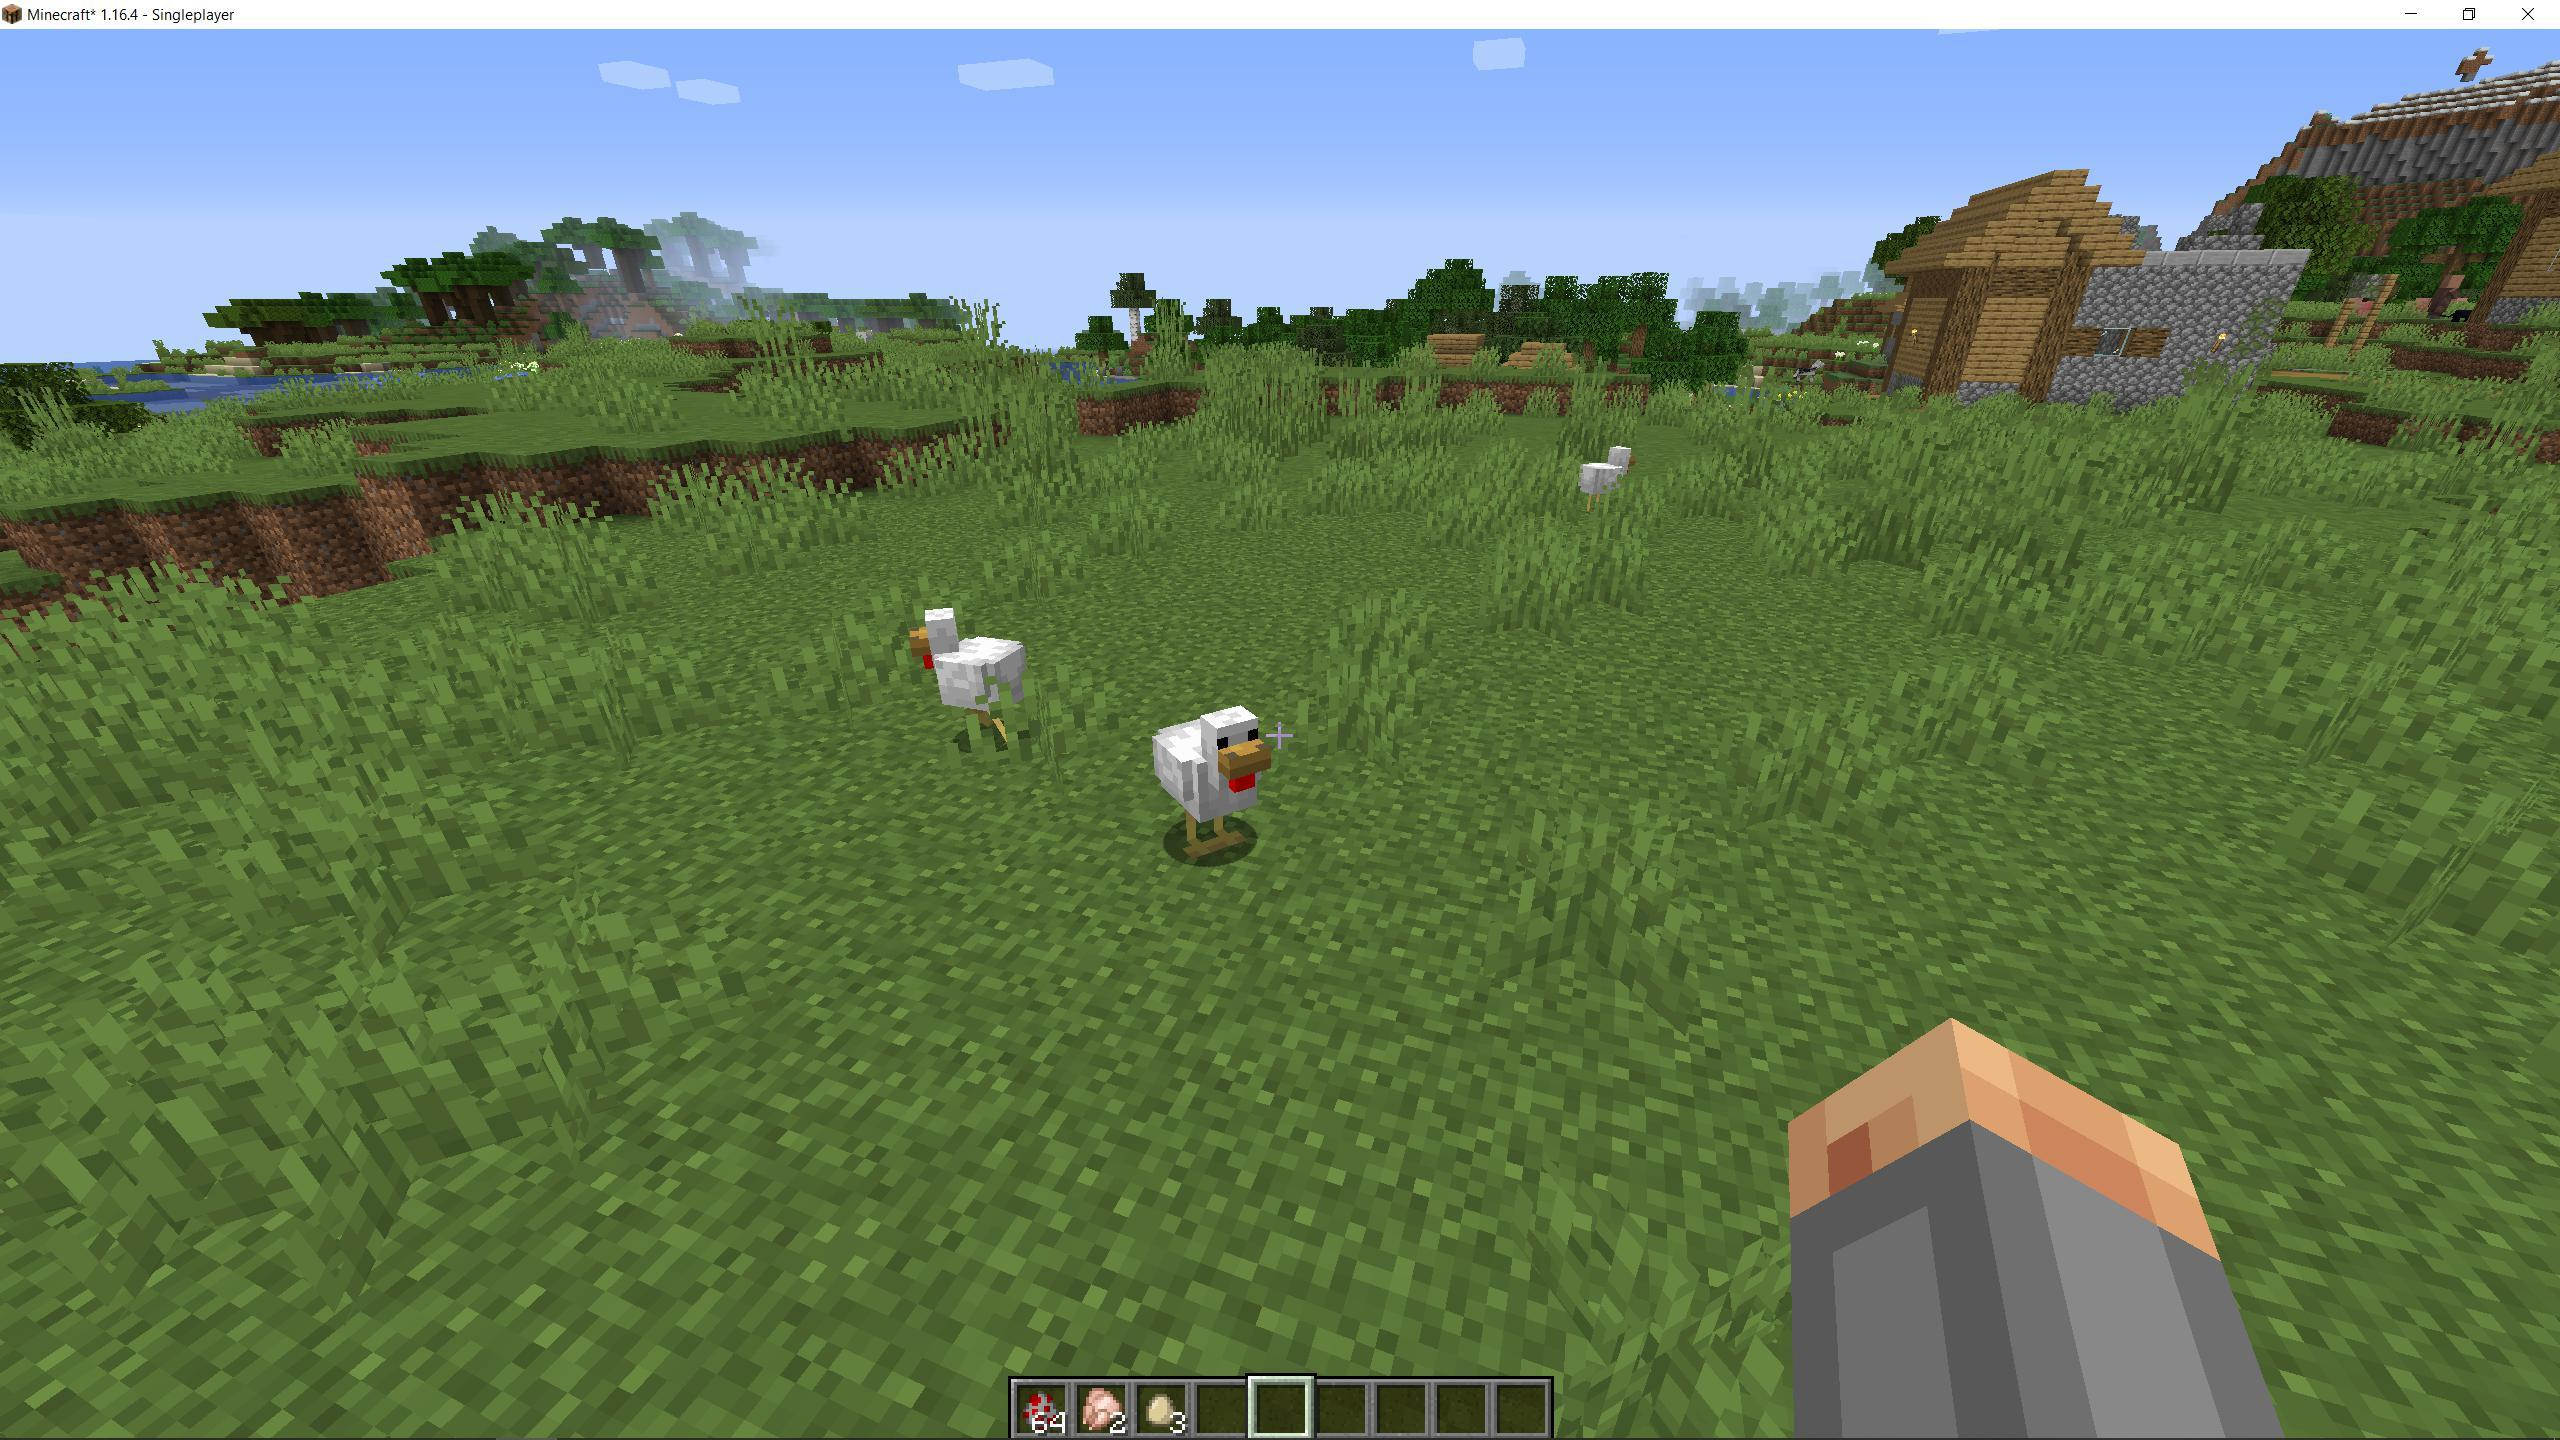chicken: (1152, 696, 1287, 869), (907, 605, 1039, 753), (1575, 445, 1635, 533)
